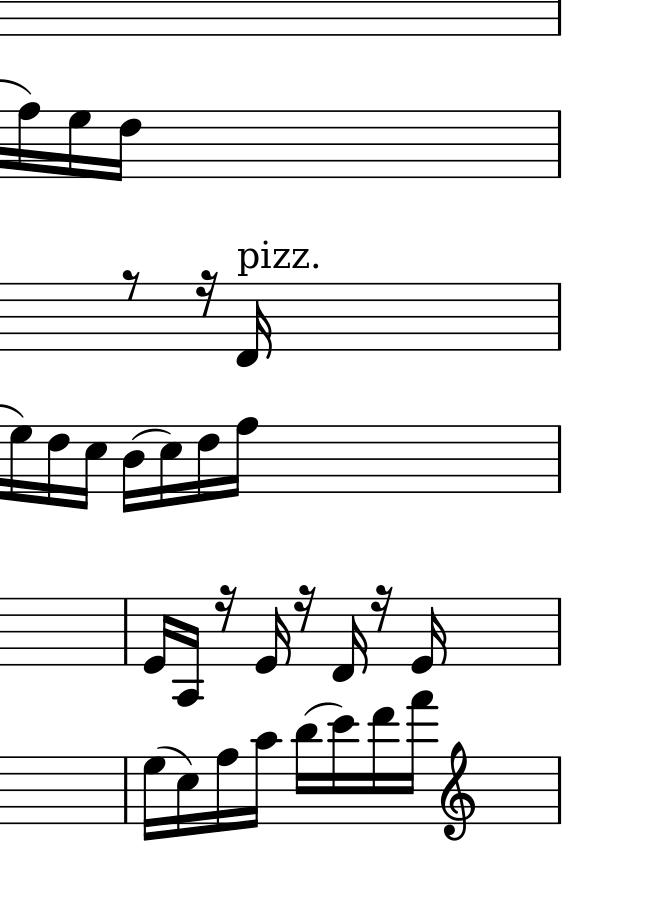16_-1: (235, 281, 272, 369), (331, 597, 368, 683)
16_-4: (176, 597, 206, 710)
16_0: (254, 596, 290, 675), (410, 598, 446, 675), (141, 597, 172, 677)
16_10: (249, 730, 280, 832)
16_11: (293, 722, 321, 828)
16_12: (330, 713, 358, 824)
16_13: (367, 705, 396, 827)
16_15: (403, 690, 434, 826)
16_4: (120, 422, 145, 514)
16_5: (75, 423, 108, 512), (156, 420, 183, 511), (173, 756, 199, 839)
16_6: (111, 108, 141, 184), (45, 420, 69, 509), (195, 422, 219, 504)
16_7: (141, 751, 164, 846), (8, 421, 31, 506), (66, 109, 91, 180)
16_8: (226, 416, 256, 499), (214, 746, 238, 837), (16, 100, 40, 180)
Gclef: (439, 737, 478, 845)
Rests16: (213, 584, 237, 635), (292, 583, 316, 634), (194, 270, 218, 319), (371, 585, 394, 633)
Rests8: (121, 268, 141, 300)
Single_barline: (551, 599, 568, 667), (551, 283, 567, 351), (551, 110, 567, 177), (551, 757, 567, 824), (551, 427, 567, 491), (119, 758, 133, 823)
Slur: (158, 744, 193, 766), (132, 426, 169, 442), (305, 701, 342, 716)
